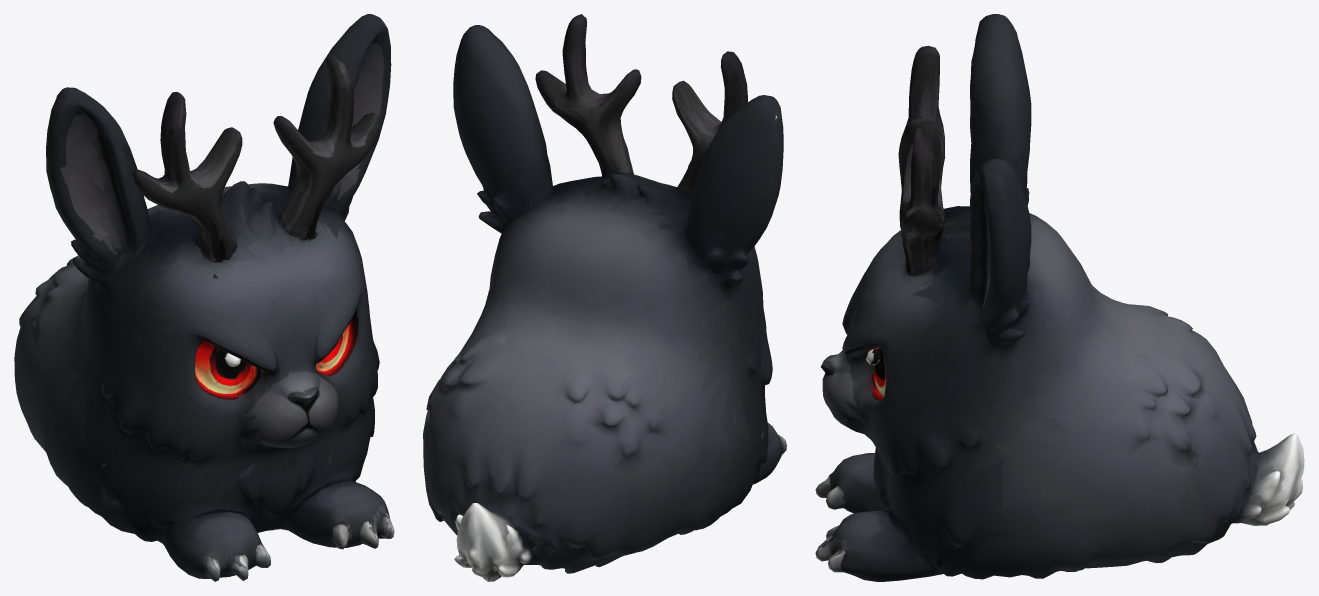
The model's file is jackalope_basic_10k.fbx.
3 renders of one model, left to right at view 1: azimuth 30°, elevation 25°; view 2: azimuth 150°, elevation 25°; view 3: azimuth 270°, elevation 25°, orthographic. The views are drawn at different scales.
Visible parts, largest first — view 1: model_decimated; view 2: model_decimated; view 3: model_decimated.
Boxes of the visible parts, x1,y1,x2,y2 form: model_decimated: (14, 14, 394, 581); model_decimated: (423, 14, 786, 581); model_decimated: (815, 14, 1304, 581).
Bounding box in the file's own units: 1.46 × 1.91 × 1.84.
